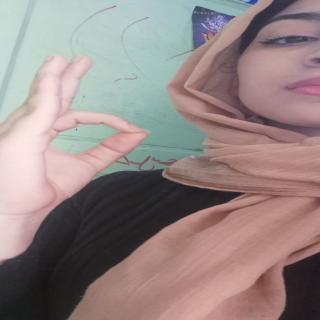Space: (15, 51, 161, 178)
